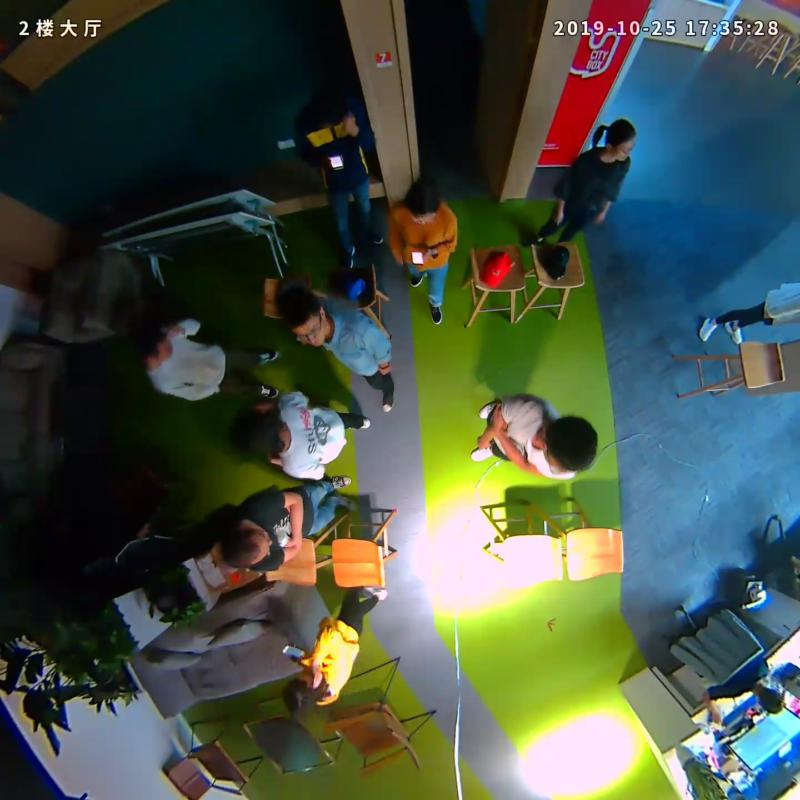head: (542, 415, 598, 478), (277, 285, 327, 349), (231, 408, 287, 455), (124, 320, 175, 366), (222, 526, 272, 568), (403, 178, 443, 225), (310, 83, 348, 126), (604, 119, 638, 163), (283, 674, 319, 713)
